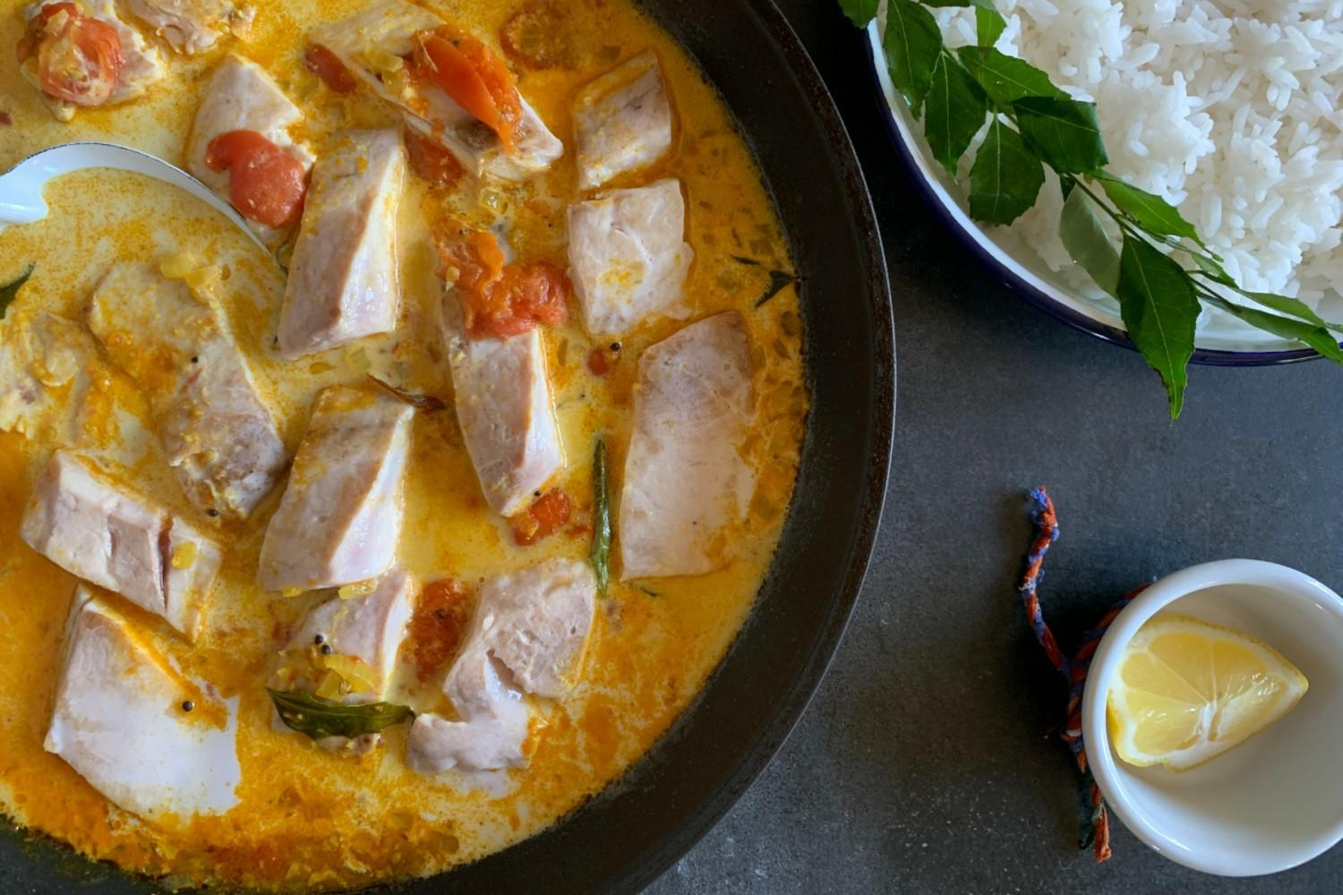FishCurry: (10, 0, 808, 895)
